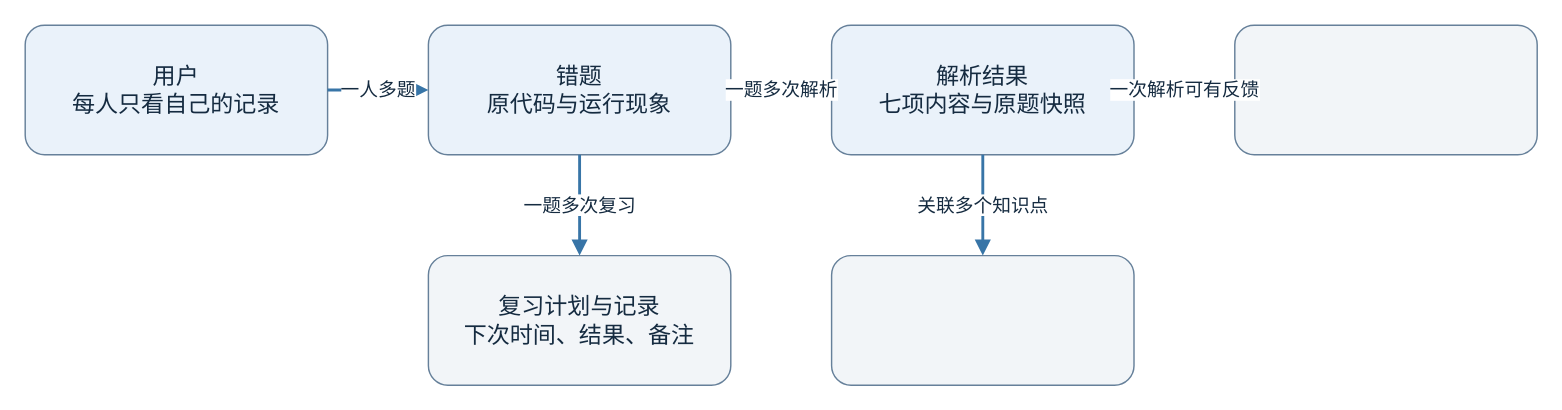
The diagram is 1562 pixels wide and 410 high, and some of its shapes have lost their labels. Here are the shapes that lost their labels. From the top down, the centre of each, then its label:
point (1385, 89): 解析反馈 用户判断与备注
point (982, 319): 知识点与关联 从解析中整理
